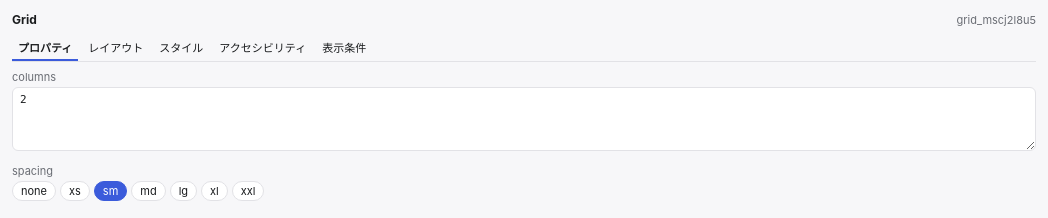
Test: Inspector › the JSON fallback field (for props with no dedicated widget, e.g. Grid.columns) re-syncs its text after an external change like undo
The width and height of the screenshot is (1048, 218).
Replace the text in the text box showing "2" with "3" at (524, 119), box [12,87,1036,151]
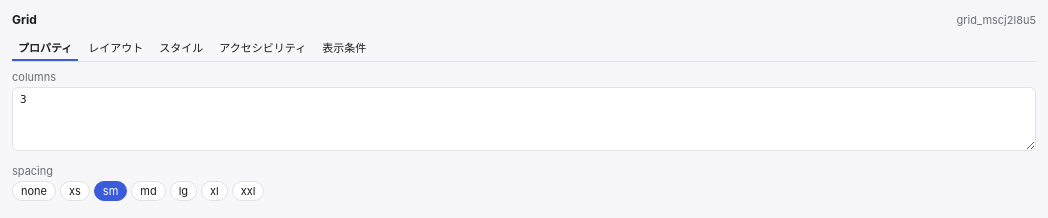
Leave the text box showing "2", box [12,87,1036,151]
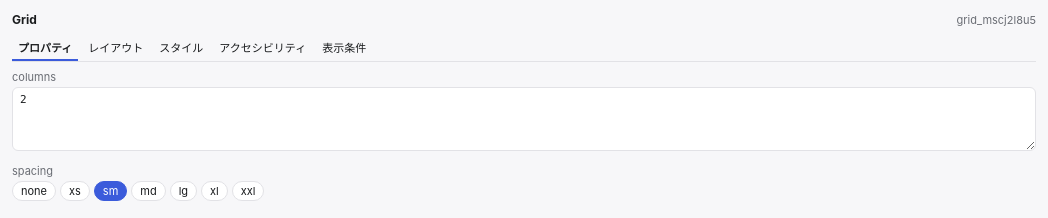
Now the text box showing "2" is shown, box [12,87,1036,151]
